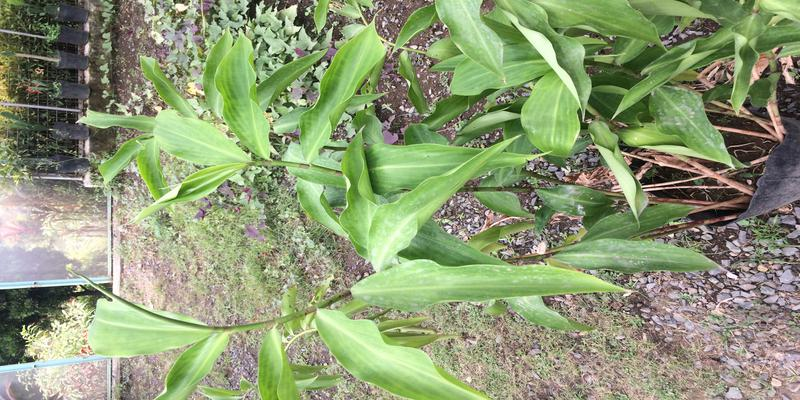Insulin: (145, 75, 745, 370)
